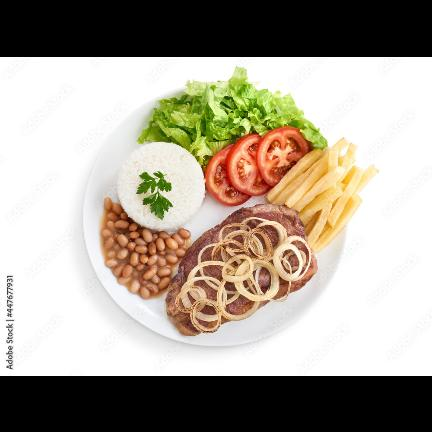beans: (102, 198, 186, 298)
meat: (166, 204, 307, 336)
potato: (267, 139, 377, 251)
rice: (117, 142, 205, 231)
salad: (137, 67, 327, 170)
tomato: (206, 127, 311, 206)
